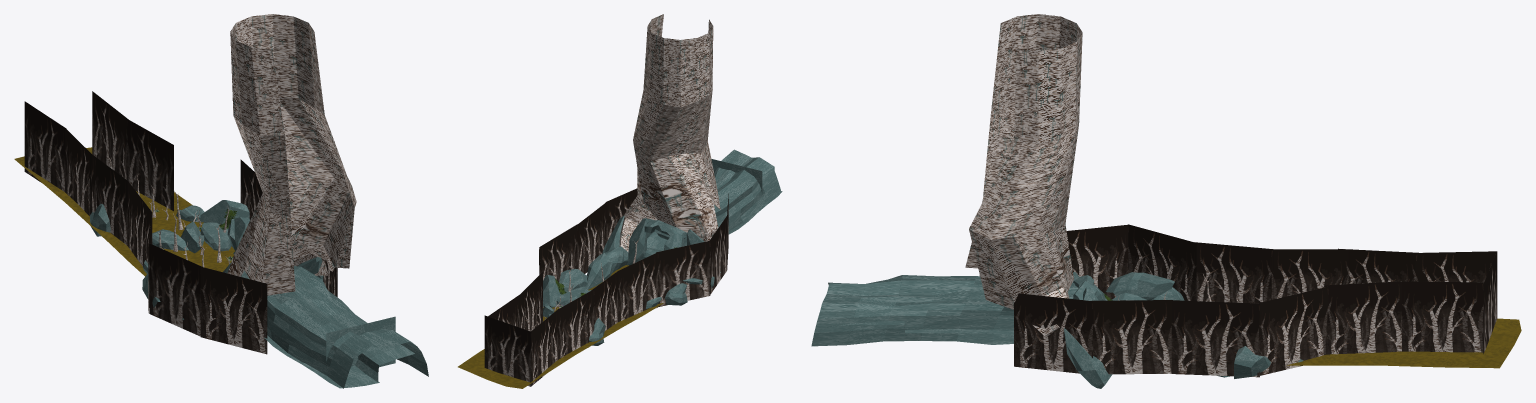
The model's file is map_finale7.obj.
3 views of the same model, side by side, from view 1: azimuth 30°, elevation 25°; view 2: azimuth 150°, elevation 25°; view 3: azimuth 270°, elevation 25° (orthographic). The views are drawn at different scales.
Visible parts, largest first — view 1: big_tree, roof, foret.013, foret.012, foret.004, lvl_floor, foret.007, foret.005, foret.009, foret.008, foret.010, double_jump (+9 smaller); view 2: big_tree, roof, foret.006, foret.011, foret.010, foret.008, lvl_floor, foret.002, foret.001, foret.007, foret.009, foret.004 (+14 smaller); view 3: big_tree, roof, foret.002, foret.005, foret.001, foret.004, foret, foret.003, foret.010, lvl_floor, foret.011, foret.009 (+8 smaller).
Part boxes in pixels (x1,y1,x2,y2): big_tree: [227, 14, 356, 295]; roof: [241, 265, 428, 388]; foret.013: [200, 266, 267, 354]; foret.012: [149, 243, 201, 336]; foret.004: [127, 119, 173, 211]; lvl_floor: [14, 147, 234, 276]; foret.007: [24, 101, 66, 191]; foret.005: [92, 91, 128, 179]; foret.009: [90, 153, 128, 245]; foret.008: [65, 128, 95, 216]; foret.010: [127, 181, 151, 266]; double_jump: [355, 344, 414, 382]; big_tree: [619, 14, 720, 252]; roof: [647, 149, 780, 245]; foret.006: [484, 315, 531, 386]; foret.011: [656, 241, 710, 306]; foret.010: [618, 252, 658, 321]; foret.008: [557, 289, 594, 359]; lvl_floor: [458, 265, 663, 388]; foret.002: [539, 224, 577, 282]; foret.001: [577, 202, 606, 273]; foret.007: [531, 309, 558, 385]; foret.009: [587, 271, 617, 347]; foret.004: [519, 272, 542, 331]; big_tree: [965, 14, 1082, 336]; roof: [811, 275, 1078, 346]; foret.002: [1171, 300, 1259, 377]; foret.005: [1402, 281, 1483, 352]; foret.001: [1092, 300, 1172, 374]; foret.004: [1325, 281, 1401, 354]; foret: [1014, 293, 1092, 373]; foret.003: [1257, 286, 1328, 376]; foret.010: [1194, 242, 1273, 303]; lvl_floor: [1286, 318, 1521, 368]; foret.011: [1128, 224, 1196, 300]; foret.009: [1271, 249, 1352, 299].
Size of the model in its own units: 49.67 by 88.37 by 177.
